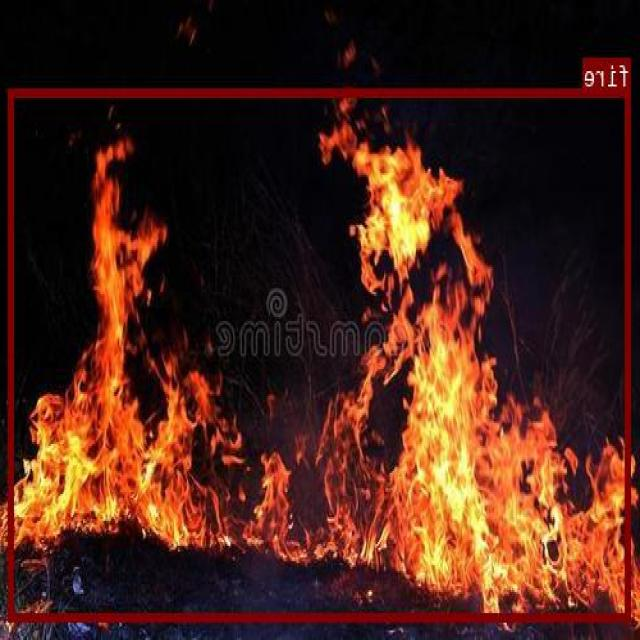fire: (10, 86, 631, 620)
